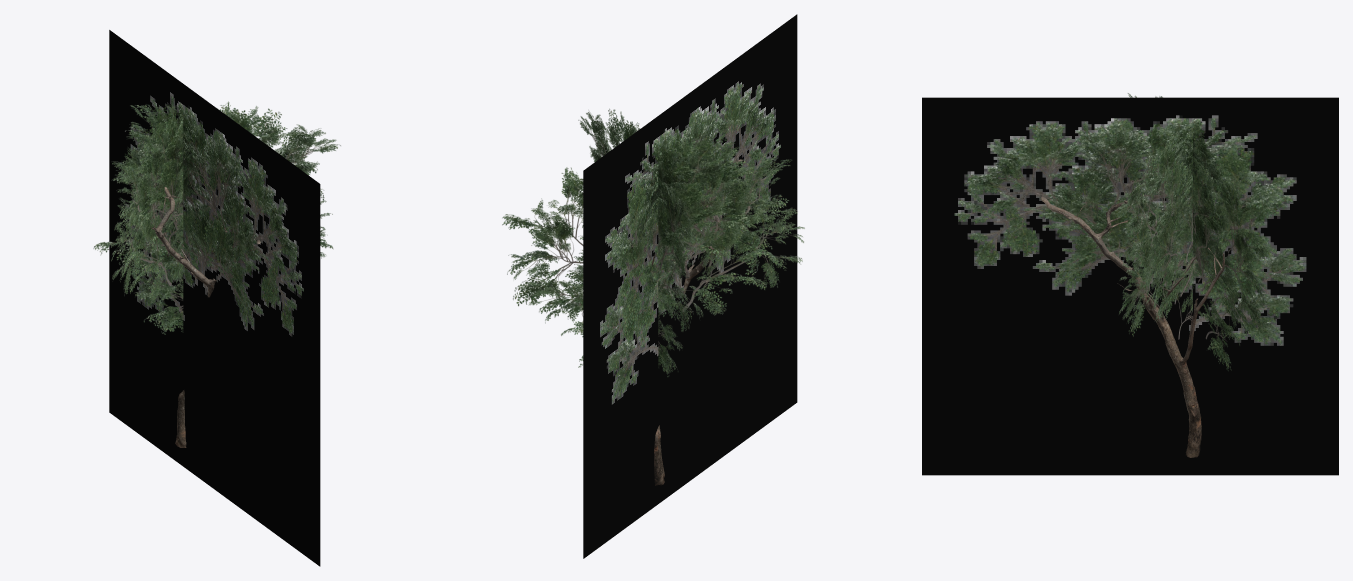
The model's file is site_tree_far.glb.
The picture shows the model from 3 angles, left to right: view 1: azimuth 30°, elevation 25°; view 2: azimuth 150°, elevation 25°; view 3: azimuth 270°, elevation 25°; orthographic projection. The views are drawn at different scales.
Visible parts, largest first — view 1: site_canopy_card_0, site_canopy_card_1, site_canopy_card_2, tree_far_trunk; view 2: site_canopy_card_0, site_canopy_card_2, site_canopy_card_1, tree_far_trunk; view 3: site_canopy_card_0, site_canopy_card_1, site_canopy_card_2, tree_far_trunk.
Boxes of the visible parts, x1,y1,x2,y2 form: site_canopy_card_0: (109,30,320,566); site_canopy_card_1: (93,104,340,334); site_canopy_card_2: (111,101,259,302); tree_far_trunk: (151,187,260,447); site_canopy_card_0: (583,14,797,558); site_canopy_card_2: (502,136,804,367); site_canopy_card_1: (578,108,703,377); tree_far_trunk: (651,159,743,485); site_canopy_card_0: (922,97,1338,475); site_canopy_card_1: (1115,128,1192,339); site_canopy_card_2: (1128,93,1268,371); tree_far_trunk: (1040,196,1224,457).
Size of the model in its own units: 1.12 by 1.12 by 1.12.
Materials: 4 (4 with a texture image).
